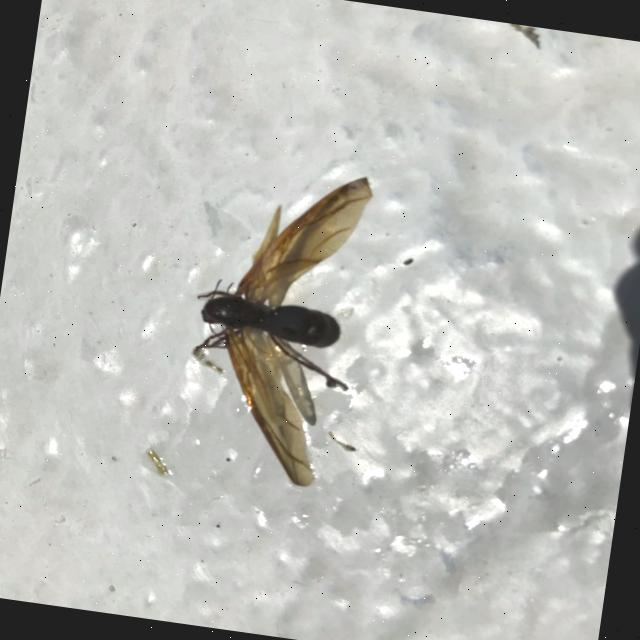Dead-Female-Alate: (171, 155, 379, 492)
